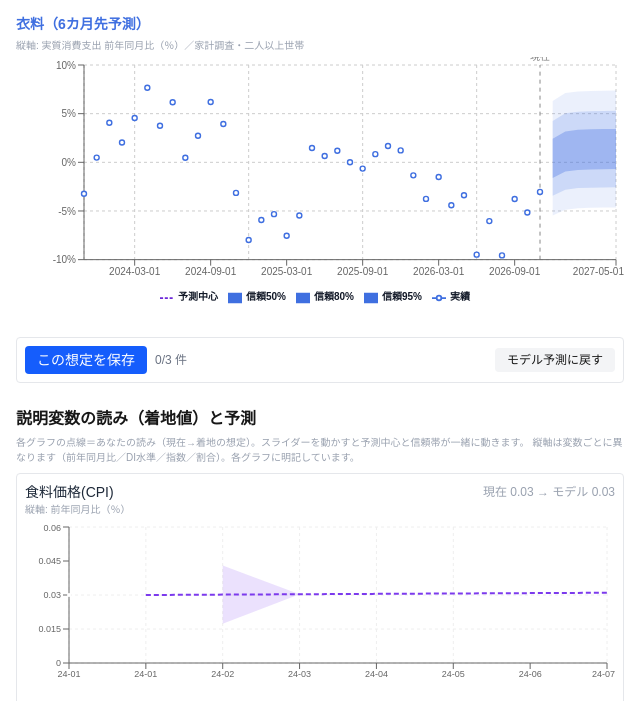
Test: Simulator interactions › removes a saved scenario
(page scrolled)
Step 1. Click the button "この想定を保存" → point(86, 360), box [25, 346, 147, 374]
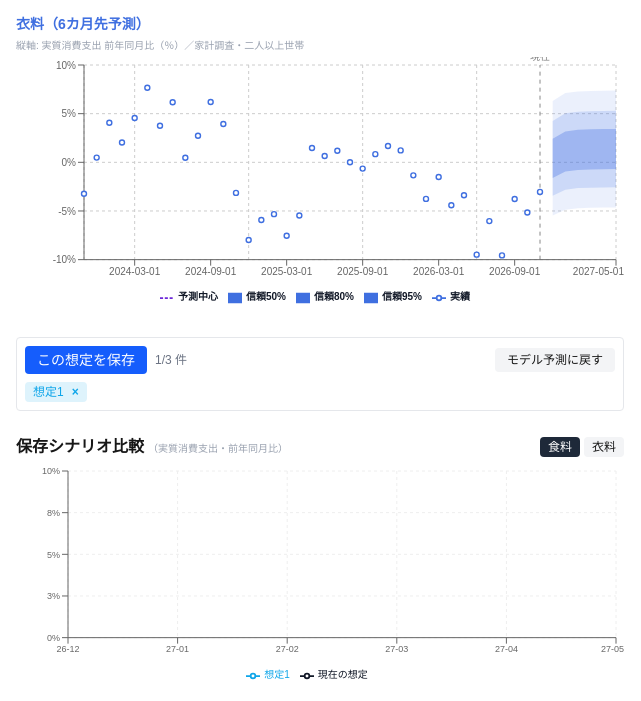
Step 2. Click the button named "想定1を削除" → point(75, 392), box [72, 384, 79, 400]
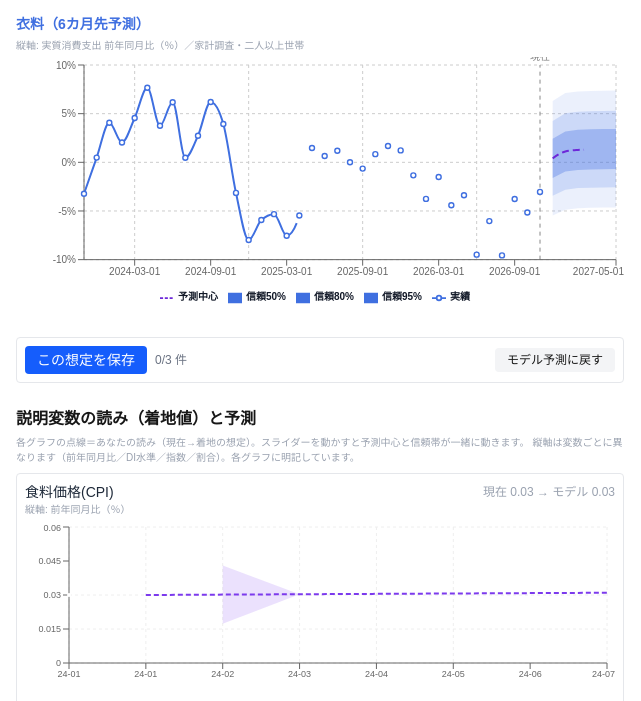
Expected: the element with test id "scenario-compare" is gone
